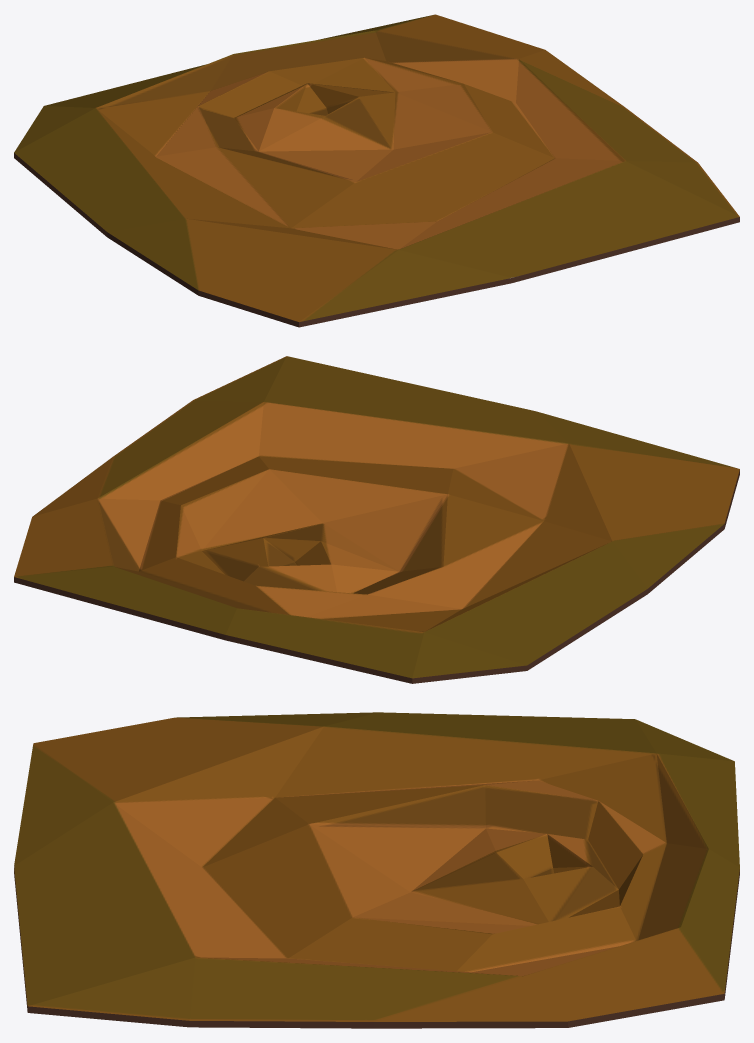
Rendered from Mud01.fbx.
3 renders of one model, top to bottom at view 1: azimuth 30°, elevation 25°; view 2: azimuth 150°, elevation 25°; view 3: azimuth 270°, elevation 25°, orthographic. The views are drawn at different scales.
Visible parts, largest first — view 1: Circle.005; view 2: Circle.005; view 3: Circle.005.
Part boxes in pixels (x1,y1,x2,y2): Circle.005: (14, 14, 739, 327); Circle.005: (14, 356, 739, 683); Circle.005: (14, 712, 739, 1028).
Bounding box in the file's own units: 101 × 4.22 × 100.
